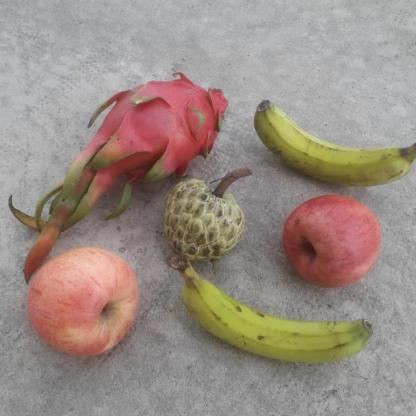annona: (161, 178, 247, 264)
apple: (27, 246, 142, 355), (281, 191, 382, 284)
banana: (178, 275, 376, 365), (247, 98, 414, 187)
pitaya: (92, 73, 225, 177)
